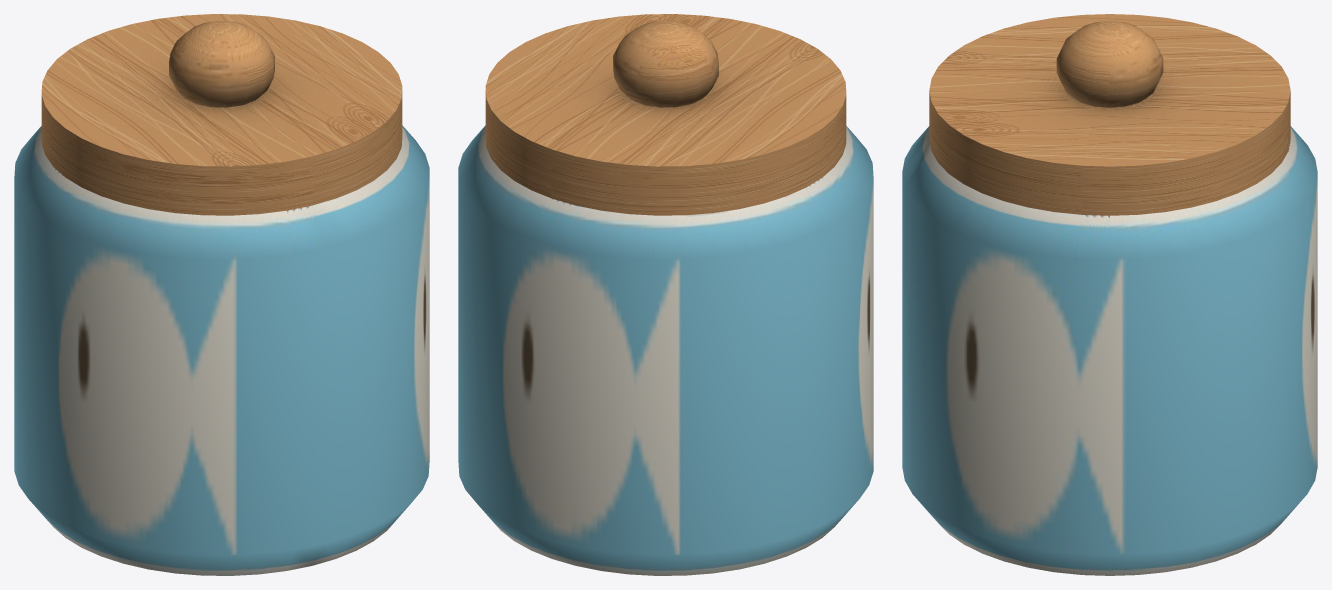
File: treat_jar.glb
3 views of the same model, side by side, from view 1: azimuth 30°, elevation 25°; view 2: azimuth 150°, elevation 25°; view 3: azimuth 270°, elevation 25° (orthographic).
Visible parts, largest first — view 1: treat_jar; view 2: treat_jar; view 3: treat_jar.
Part boxes in pixels (x1,y1,x2,y2): treat_jar: (14,14,429,575); treat_jar: (458,14,873,575); treat_jar: (902,14,1317,575).
Size of the model in its own units: 0.23 by 0.289 by 0.23.
1 material, 1 textured.
